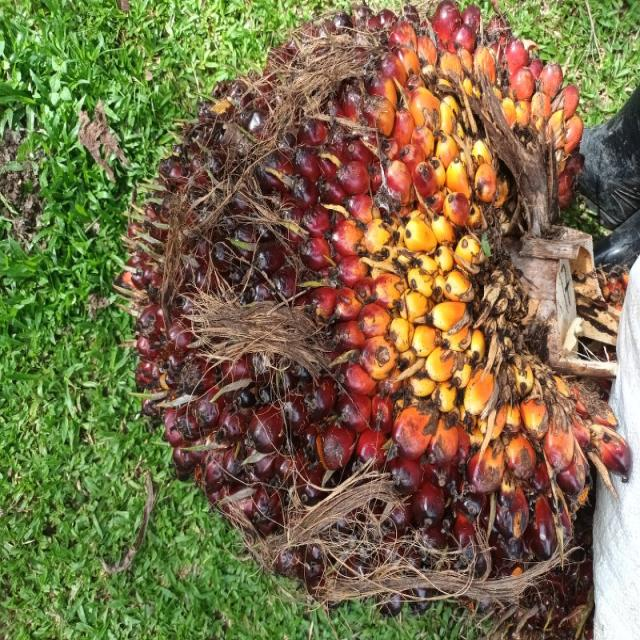fraksi 1: (127, 8, 617, 605)
